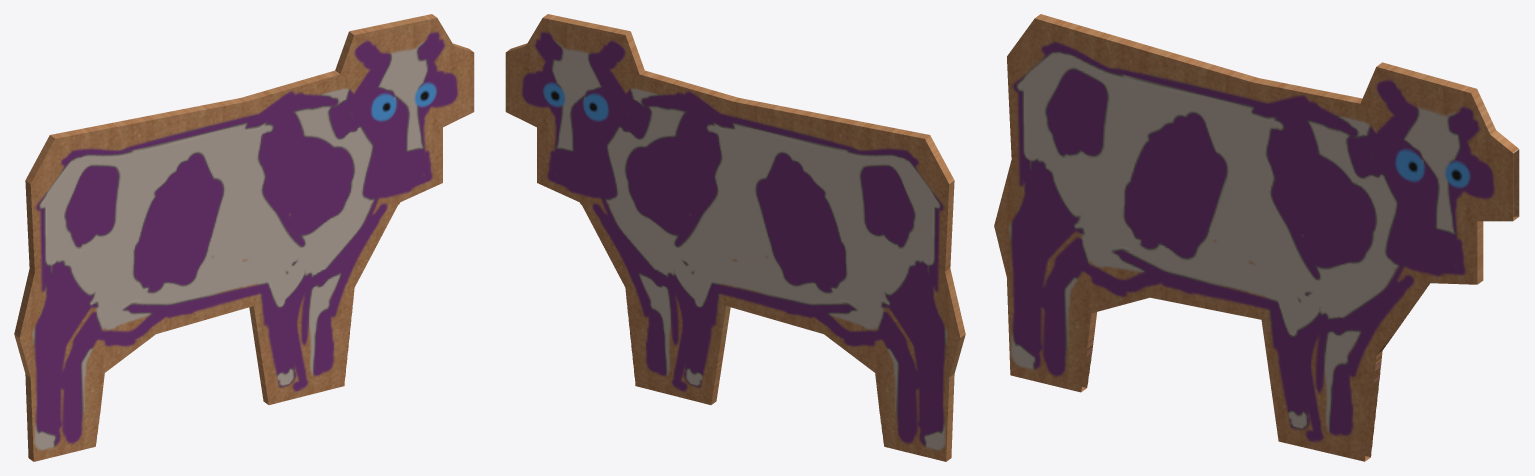
File: cow.FBX
3 views of the same model, side by side, from view 1: azimuth 30°, elevation 25°; view 2: azimuth 150°, elevation 25°; view 3: azimuth 330°, elevation 25° (orthographic). The views are drawn at different scales.
Visible parts, largest first — view 1: cow; view 2: cow; view 3: cow.
Part boxes in pixels (x1,y1,x2,y2): cow: (14, 14, 474, 461); cow: (505, 14, 965, 461); cow: (994, 14, 1519, 461).
Size of the model in its own units: 348 by 255 by 7.
1 material, 1 textured.
